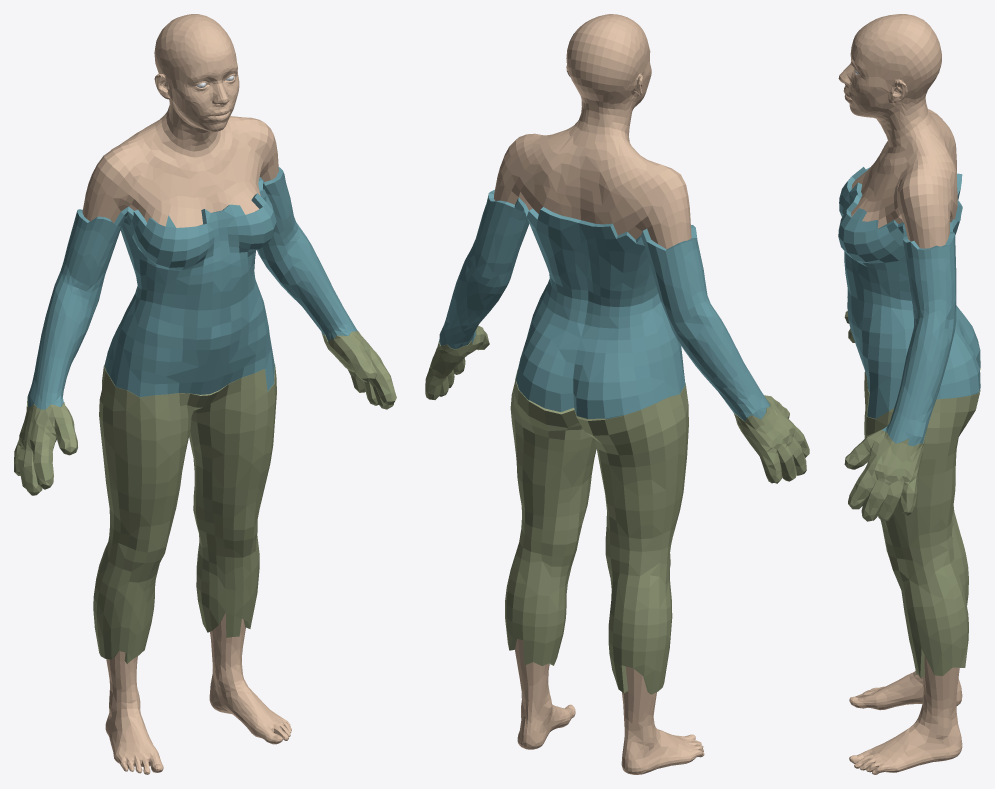
File: variant_female_tan.glb
The picture shows the model from 3 angles, left to right: view 1: azimuth 30°, elevation 25°; view 2: azimuth 150°, elevation 25°; view 3: azimuth 270°, elevation 25°; orthographic projection.
Visible parts, largest first — view 1: PeriHuman; view 2: PeriHuman; view 3: PeriHuman.
Boxes of the visible parts, x1=… form: PeriHuman: x1=14, y1=14, x2=396, y2=774; PeriHuman: x1=425, y1=14, x2=809, y2=774; PeriHuman: x1=838, y1=14, x2=980, y2=774.
Bounding box in the file's own units: 0.8716 × 1.65 × 0.2963.
